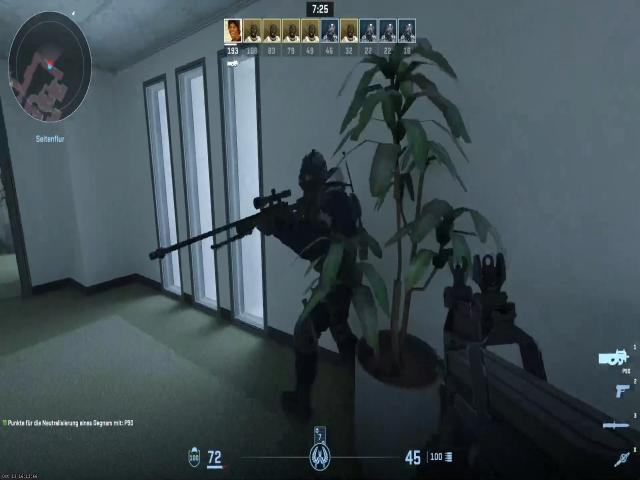CT: (287, 137, 359, 310)
CT-Head: (291, 144, 332, 212)
